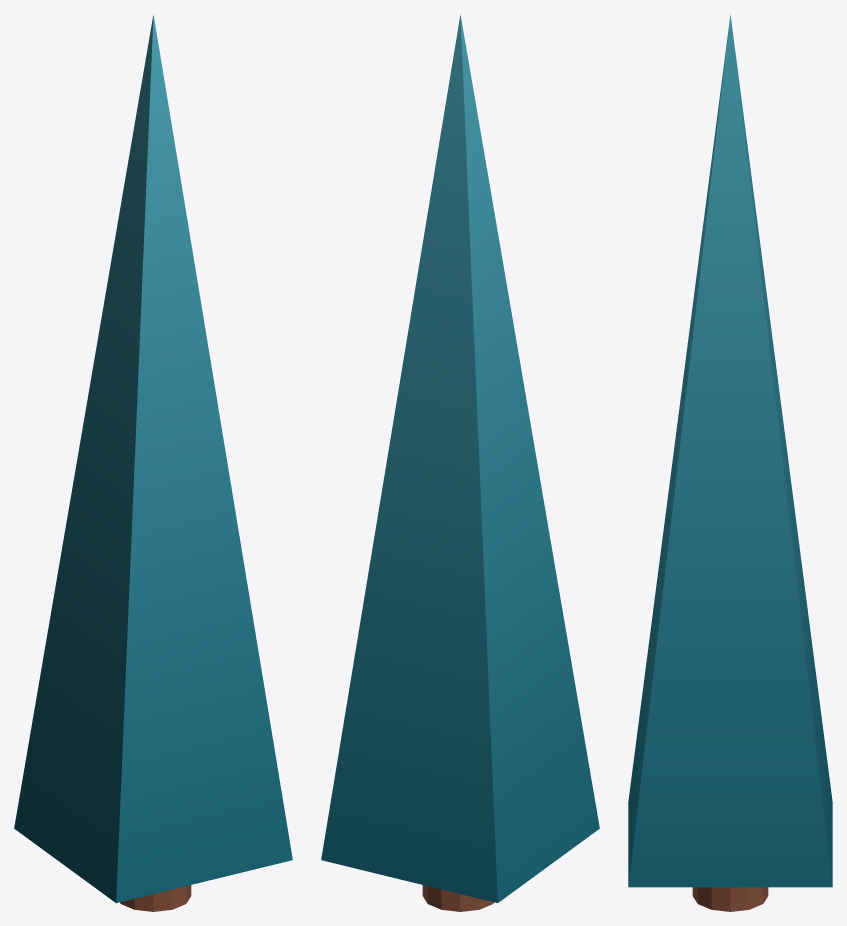
File: Tree_19_gradient_blue.fbx
3 views of the same model, side by side, from view 1: azimuth 30°, elevation 25°; view 2: azimuth 150°, elevation 25°; view 3: azimuth 270°, elevation 25° (orthographic).
Parts seen in each view (by area): view 1: Tree_19_gradient_blue; view 2: Tree_19_gradient_blue; view 3: Tree_19_gradient_blue.
Part boxes in pixels (x1,y1,x2,y2): Tree_19_gradient_blue: (14,14,292,911); Tree_19_gradient_blue: (321,14,599,911); Tree_19_gradient_blue: (628,14,832,911).
Size of the model in its own units: 59.69 by 285 by 59.69.
